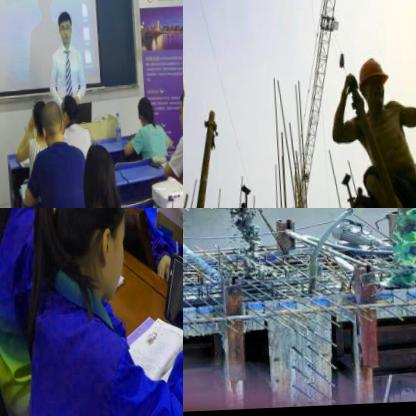head: (48, 208, 128, 312), (76, 143, 116, 208), (37, 104, 61, 149), (26, 98, 46, 139), (55, 92, 75, 129), (54, 10, 73, 47), (133, 95, 150, 130), (173, 91, 183, 140)
helmet: (354, 57, 388, 115)
